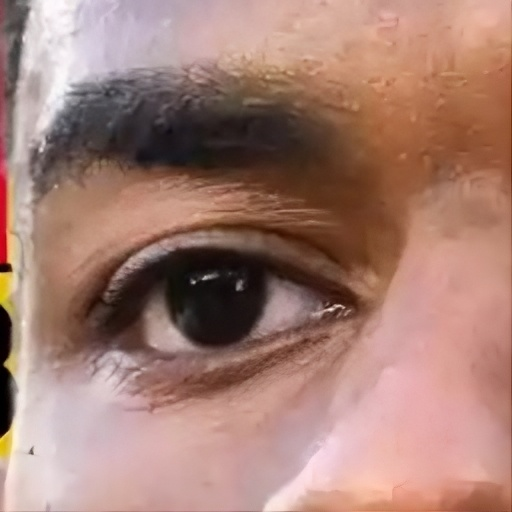iris: (167, 260, 269, 350)
pupil: (189, 265, 243, 325)
sclera: (142, 269, 319, 353)
